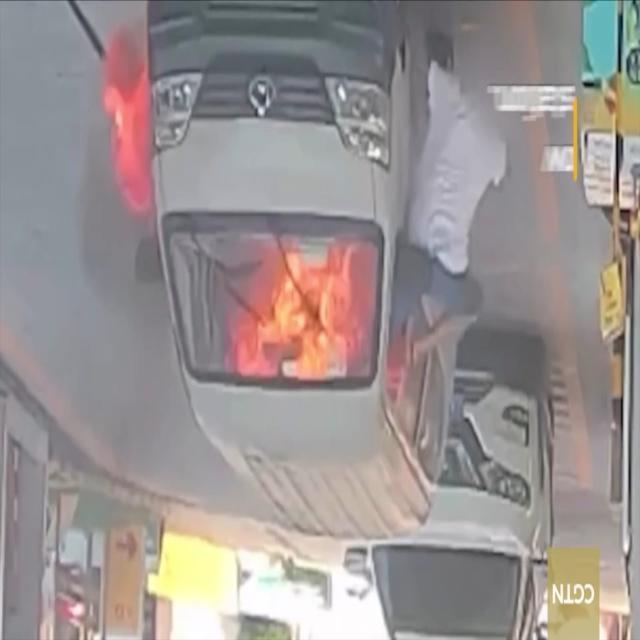fire: (225, 241, 366, 377), (98, 36, 156, 222)
